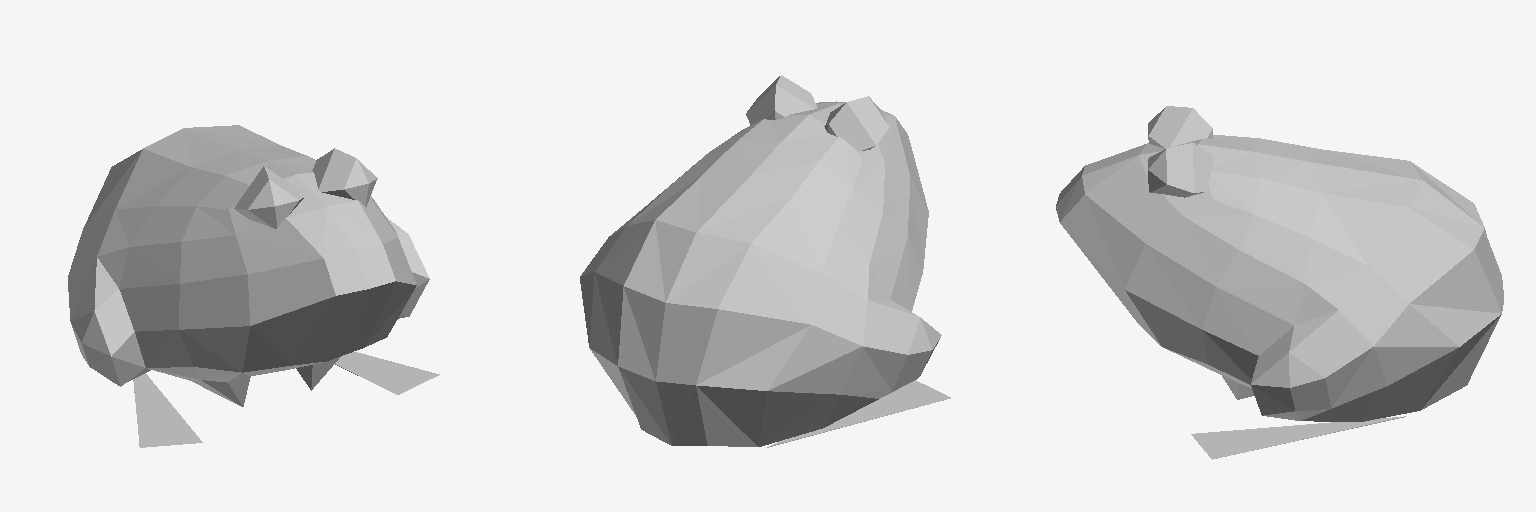
The model's file is frogLo.obj.
The picture shows the model from 3 angles: view 1: azimuth 30°, elevation 25°; view 2: azimuth 150°, elevation 25°; view 3: azimuth 270°, elevation 25°; orthographic projection.
Visible parts, largest first — view 1: frogLo:Mesh group2 group1, group1 pPlane1, group2 group1 pSphere1; view 2: frogLo:Mesh group2 group1, group2 group1 pSphere1, group1 pPlane1; view 3: frogLo:Mesh group2 group1, group2 group1 pSphere1, group1 pPlane1.
Boxes of the visible parts, box(x1,y1,x2,y2) form: frogLo:Mesh group2 group1: box(68, 125, 429, 406); group1 pPlane1: box(133, 352, 439, 447); group2 group1 pSphere1: box(234, 148, 377, 228); frogLo:Mesh group2 group1: box(580, 101, 941, 446); group2 group1 pSphere1: box(746, 75, 888, 151); group1 pPlane1: box(767, 380, 950, 447); frogLo:Mesh group2 group1: box(1056, 135, 1503, 421); group2 group1 pSphere1: box(1148, 106, 1212, 197); group1 pPlane1: box(1191, 416, 1405, 459).
Bounding box in the file's own units: 2.12 × 1.56 × 2.43.